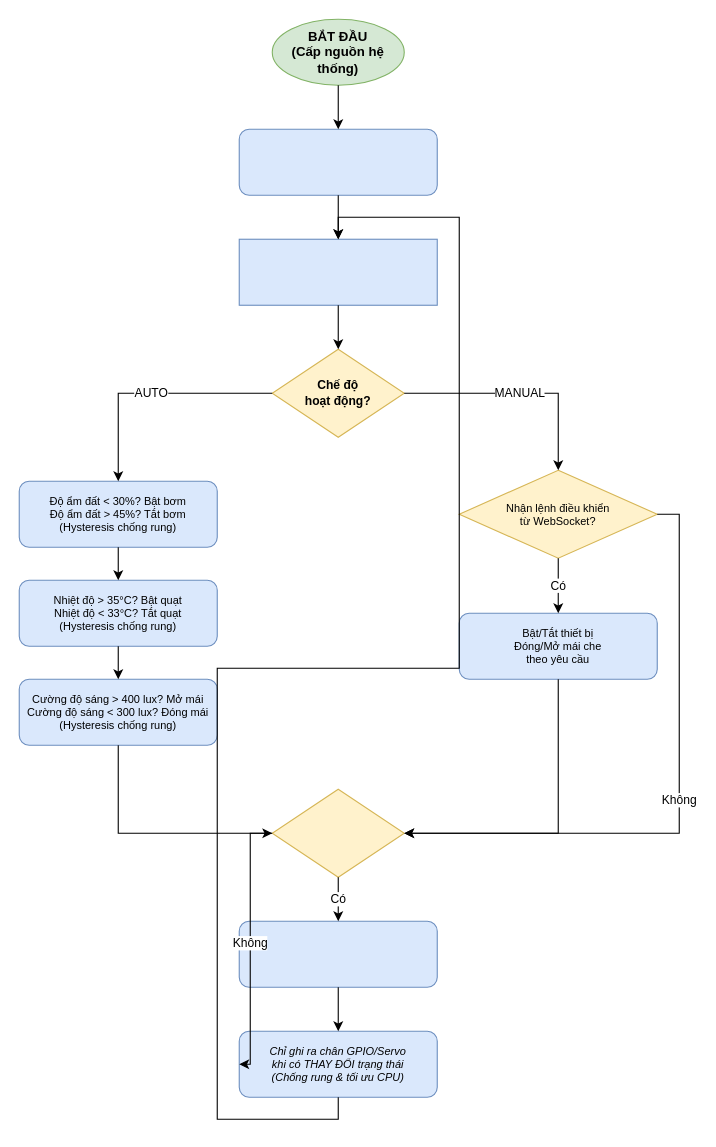
This 716x1147 diagram has some shape labels left out. Here are the shapes that lost their labels. From the top down, the centre of each, then its label:
At point 337,161: "Khởi tạo GPIO, DHT11, Servo Kết nối WiFi & WebSocket Server".
At point 337,271: "Đọc cảm biến Analog liên tục Lọc nhiễu kỹ thuật số (EMA)".
At point 337,832: "Đủ chu kỳ 2 giây?".
At point 337,953: "Đọc cảm biến DHT11 Đóng gói gói tin JSON Gửi telemetry lên Server".
